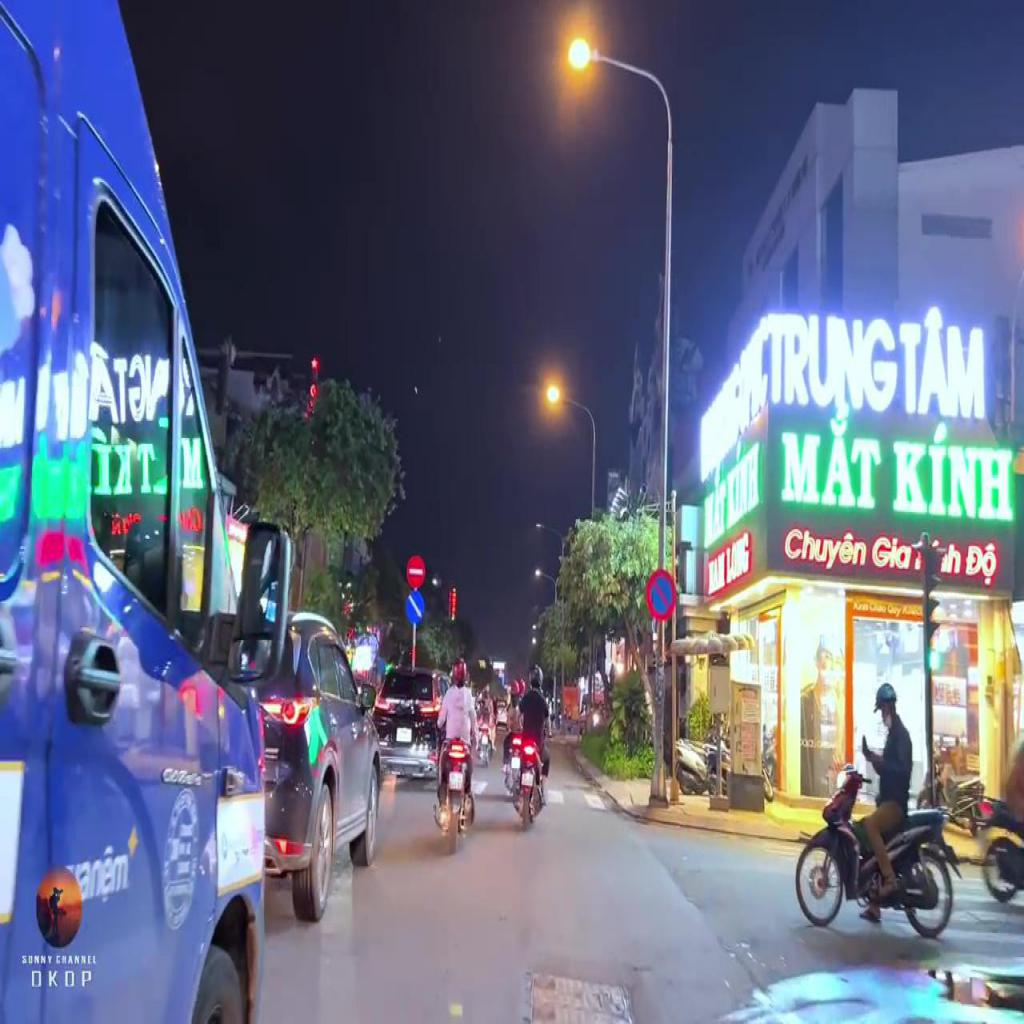cam_do_xe: (646, 566, 677, 623)
cam_xe_di_nguoc_chieu: (406, 558, 426, 588)
huong_phai_di_vuot_chuong_ngai_vat_phai: (404, 589, 426, 626)
